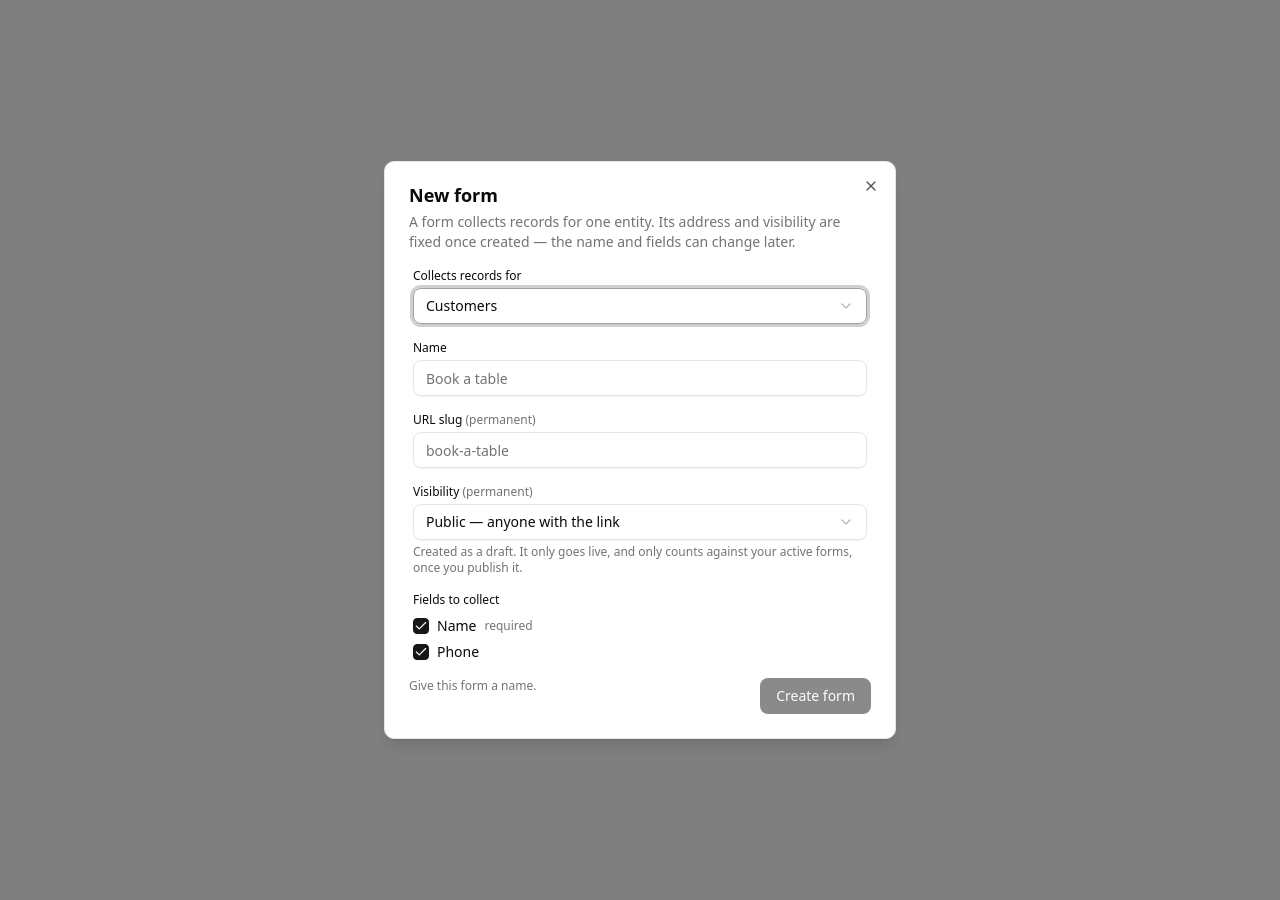
Test: NewFormDialog › surfaces a quota refusal with a route to the plan page
Type "Another" into the field labelled "Name" at (640, 378), box [413,360,867,396]
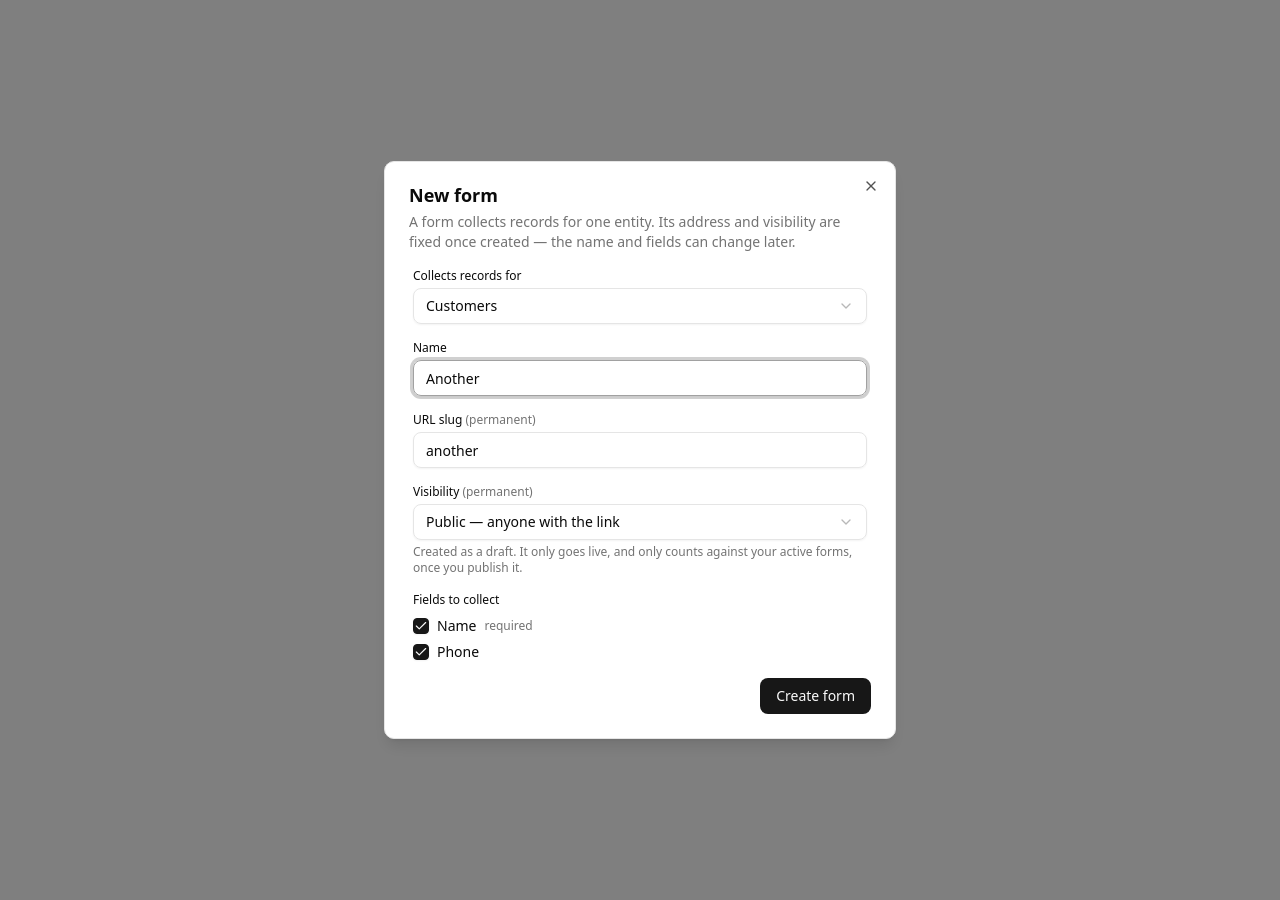
Click the button "Create form" at (816, 696), box [760,678,871,714]
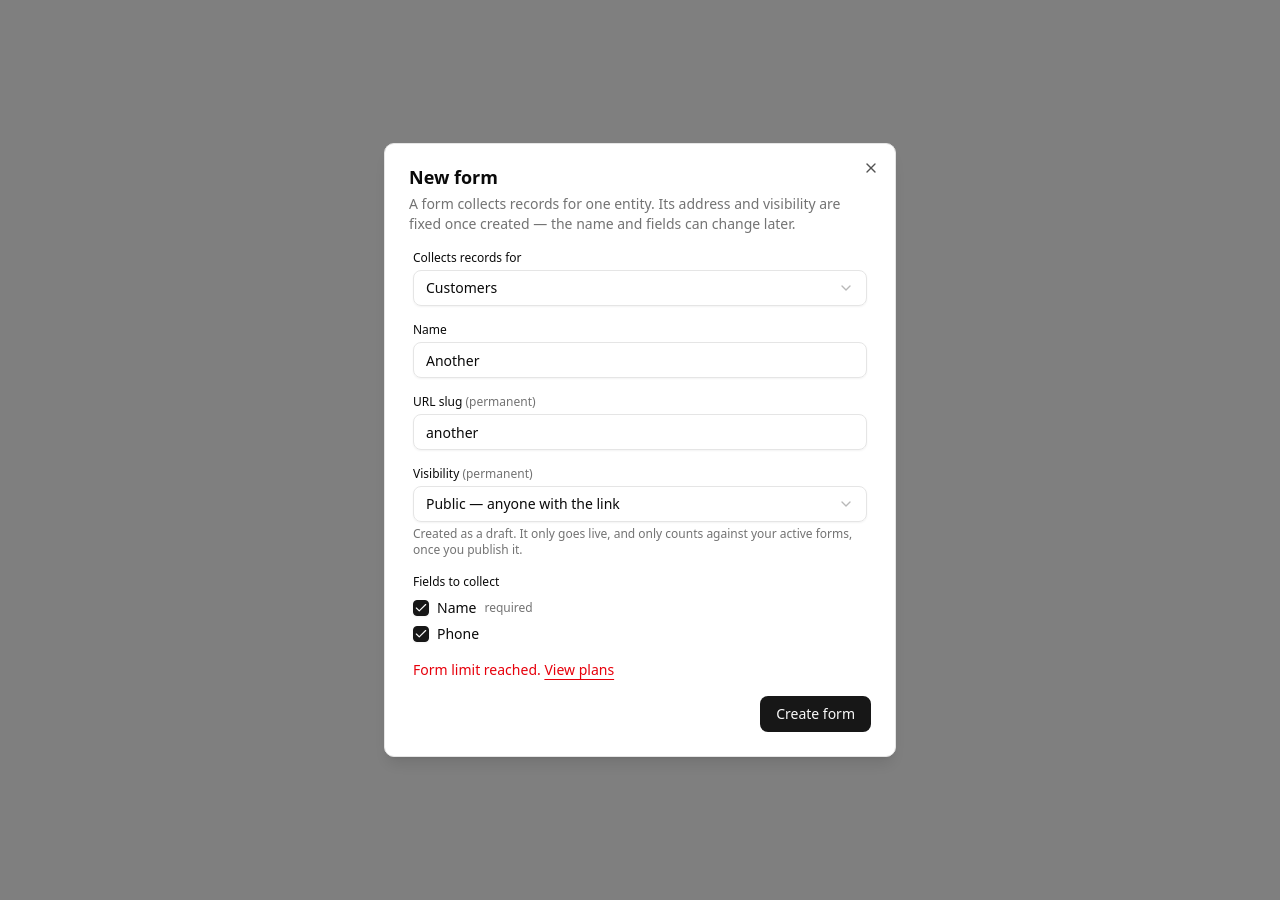
expect the message shows "Form limit reached.": met, box [413,660,541,679]
